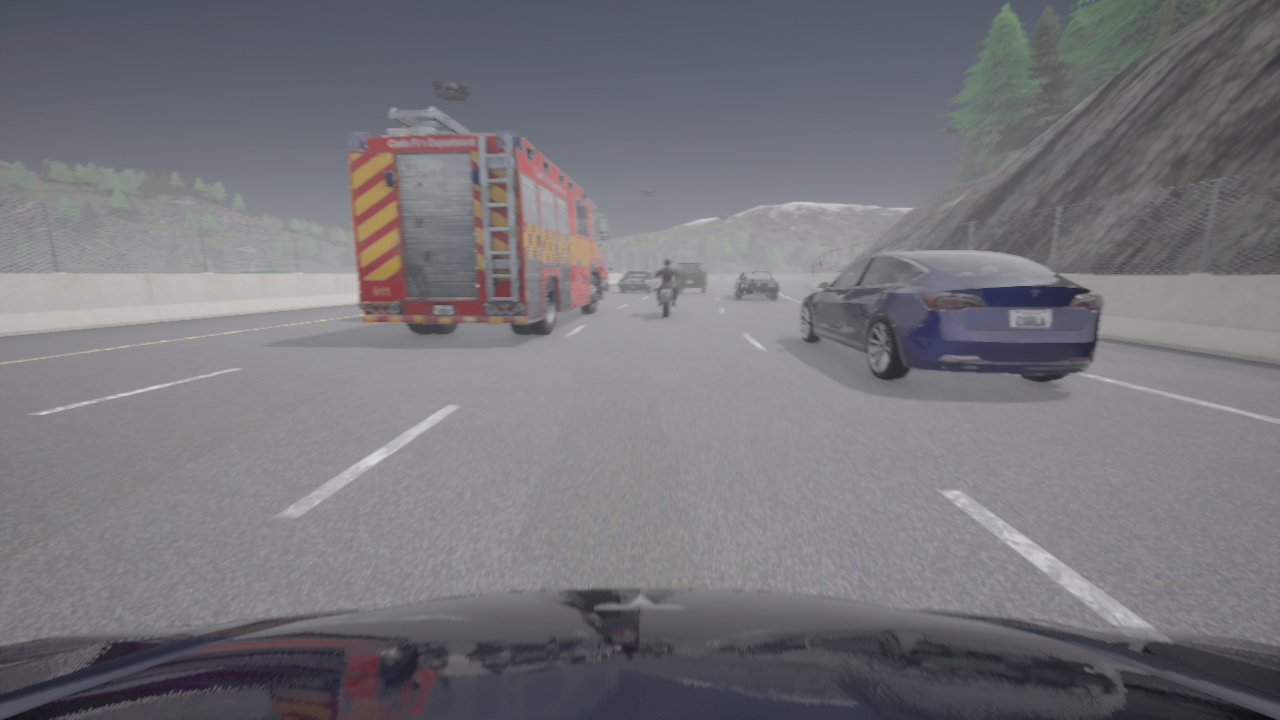cyclist: (0, 588, 1279, 719), (349, 107, 608, 334), (800, 251, 1102, 381), (654, 270, 680, 317), (734, 271, 778, 298), (674, 260, 709, 293), (618, 272, 658, 292), (600, 254, 611, 290), (358, 292, 362, 308)
